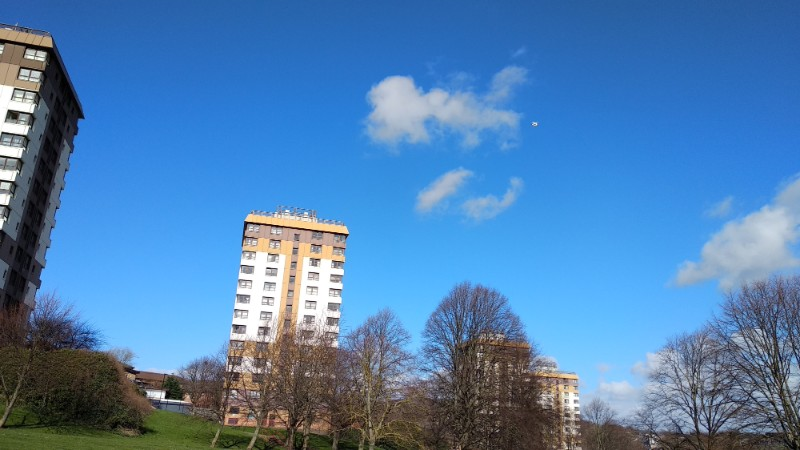drone: (530, 119, 540, 128)
